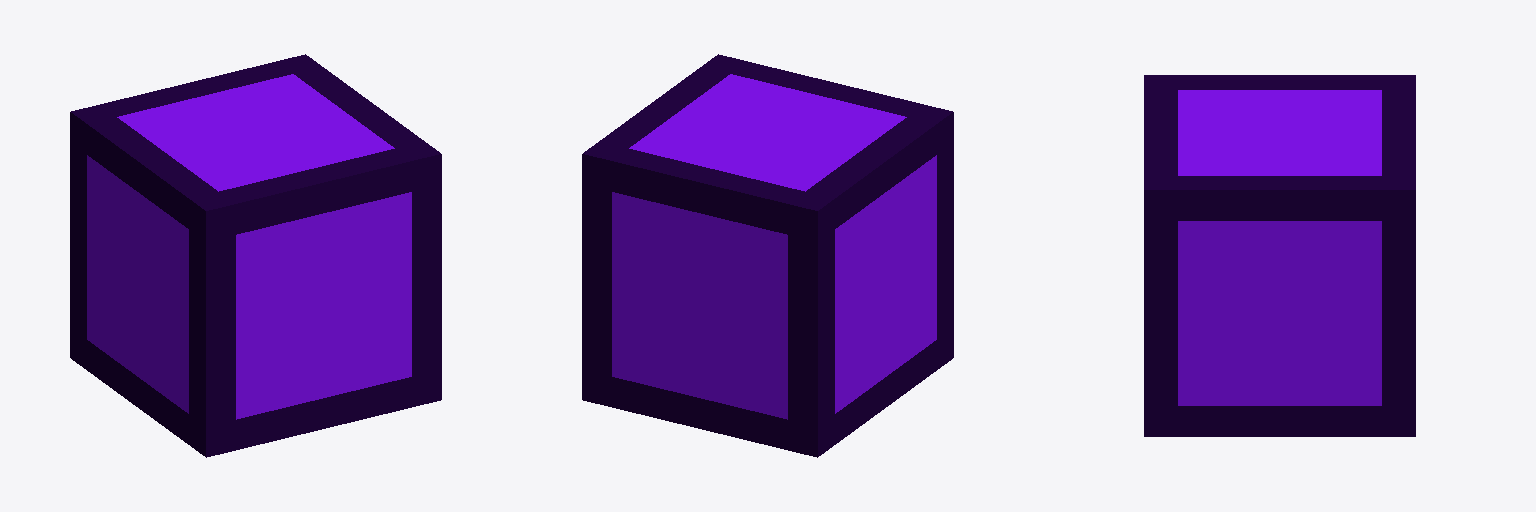
3 renders of one model, left to right at view 1: azimuth 30°, elevation 25°; view 2: azimuth 150°, elevation 25°; view 3: azimuth 270°, elevation 25°, orthographic.
Visible parts, largest first — view 1: object 1; view 2: object 1; view 3: object 1.
Boxes of the visible parts, <box> form: object 1: <box>70,54,441,457</box>; object 1: <box>582,54,953,457</box>; object 1: <box>1144,75,1415,436</box>.
Size of the model in its own units: 0.8 by 0.8 by 0.8.
1 materials, 1 textured.